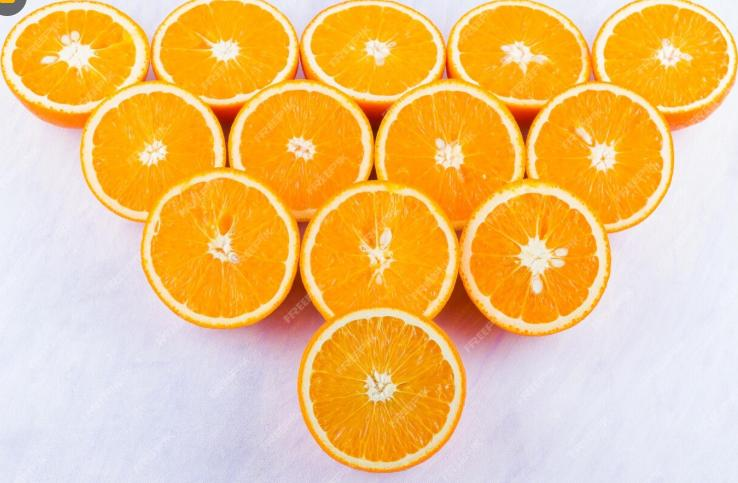orange: (293, 300, 470, 477), (465, 178, 616, 345), (304, 175, 459, 330), (151, 174, 301, 331), (526, 82, 675, 239), (380, 74, 526, 230), (229, 72, 374, 224), (75, 81, 229, 221), (594, 0, 736, 135), (3, 3, 151, 128), (448, 3, 589, 110), (306, 3, 443, 106), (155, 3, 303, 96)
